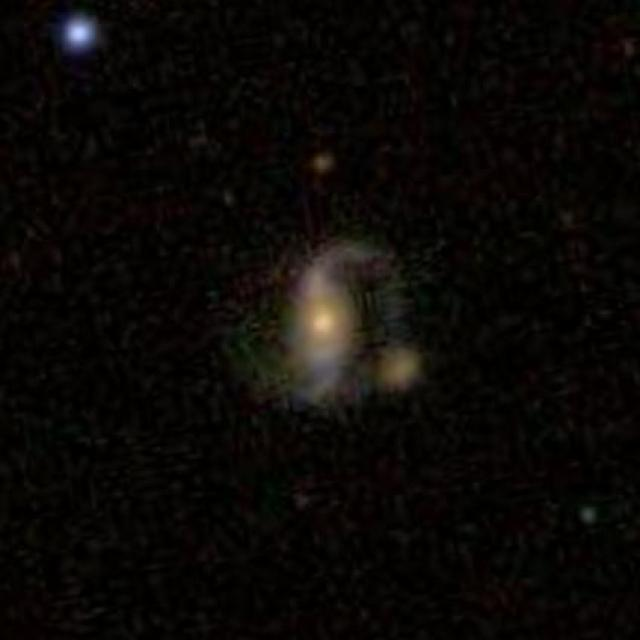galaxy: (220, 234, 424, 419), (54, 10, 107, 61), (377, 341, 420, 398), (575, 503, 601, 533), (312, 153, 338, 175)
